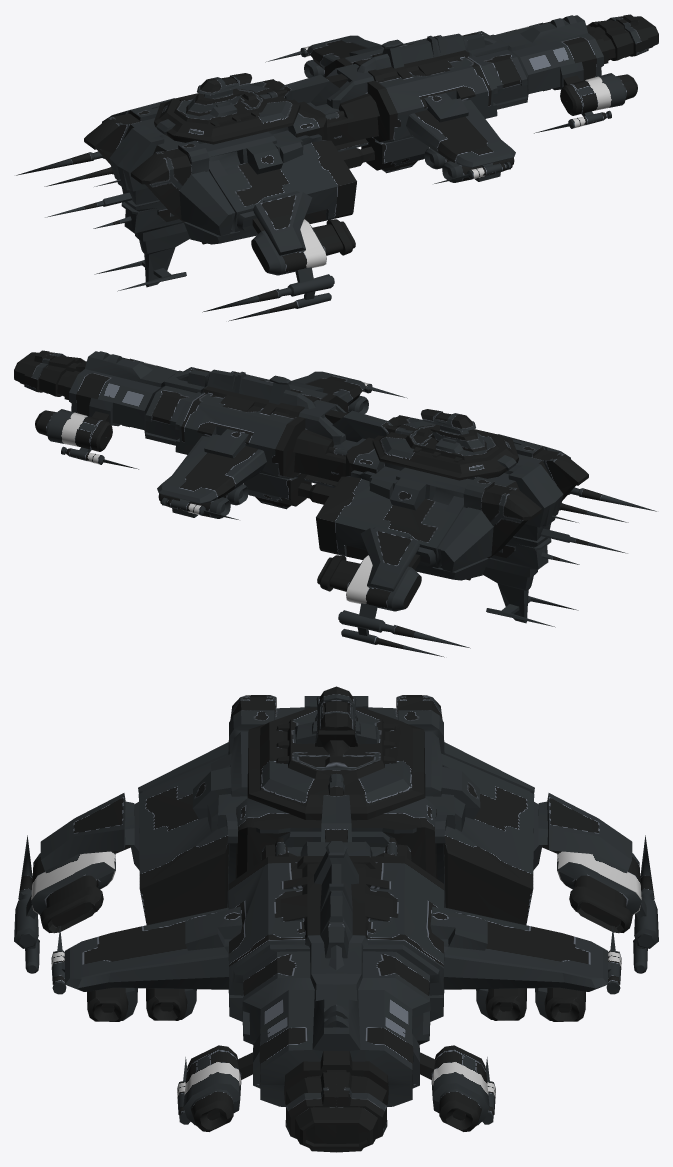
The model's file is ferox.glb.
3 renders of one model, top to bottom at view 1: azimuth 30°, elevation 25°; view 2: azimuth 150°, elevation 25°; view 3: azimuth 270°, elevation 25°, orthographic. The views are drawn at different scales.
Visible parts, largest first — view 1: Ferox; view 2: Ferox; view 3: Ferox.
Boxes of the visible parts, <box> form: Ferox: <box>16,14,658,321</box>; Ferox: <box>14,350,656,657</box>; Ferox: <box>14,686,658,1152</box>.
Bounding box in the file's own units: 504 × 152 × 281.
Materials: 1 (1 with a texture image).
